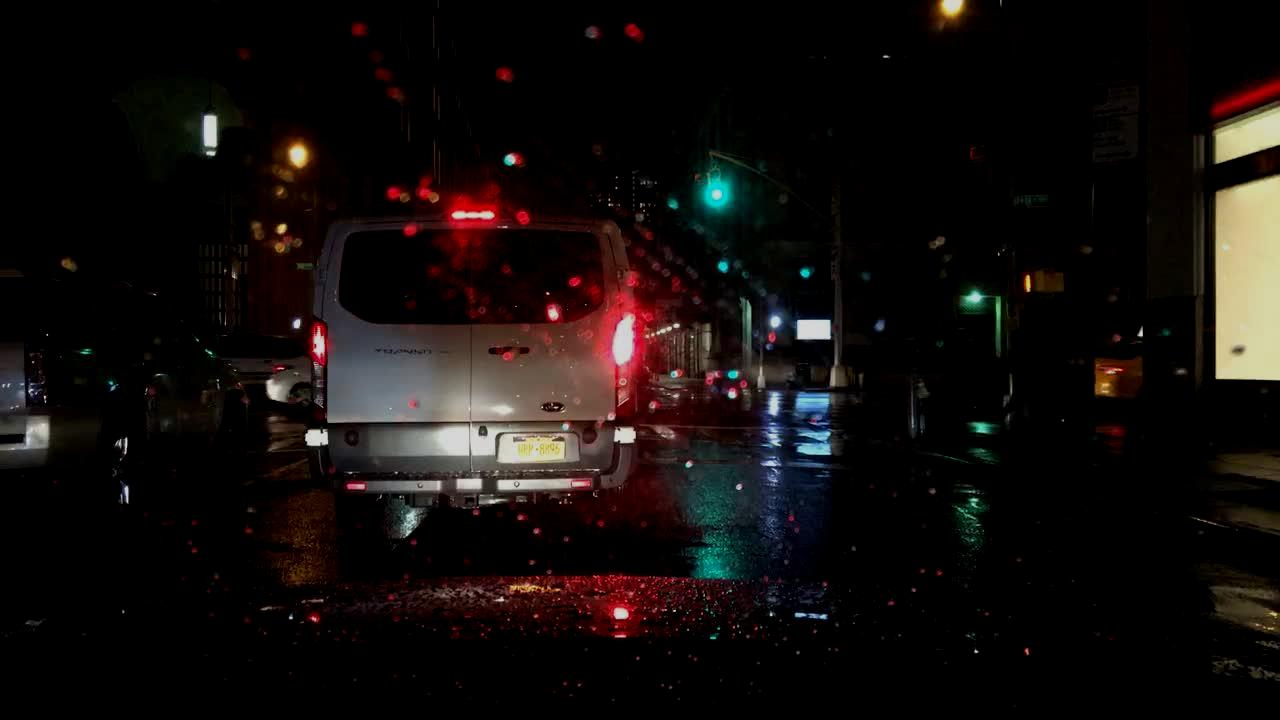ford: (538, 398, 570, 416)
